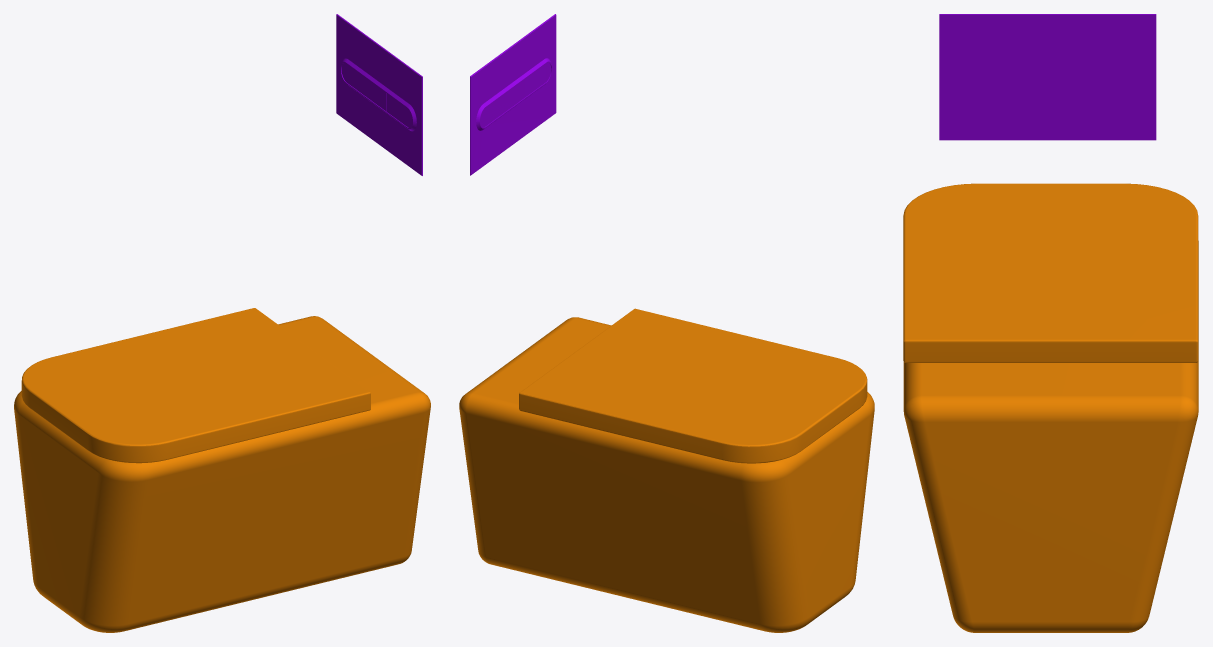
The model's file is WCBath02.fbx.
3 views of the same model, side by side, from view 1: azimuth 30°, elevation 25°; view 2: azimuth 150°, elevation 25°; view 3: azimuth 270°, elevation 25° (orthographic). The views are drawn at different scales.
Parts seen in each view (by area): view 1: ToiletBath03, Toilet_ButtonBath03; view 2: ToiletBath03, Toilet_ButtonBath03; view 3: ToiletBath03, Toilet_ButtonBath03.
Part boxes in pixels (<box>): ToiletBath03: <box>14,308,430,632</box>; Toilet_ButtonBath03: <box>336,14,422,175</box>; ToiletBath03: <box>459,308,874,632</box>; Toilet_ButtonBath03: <box>470,14,556,175</box>; ToiletBath03: <box>903,183,1198,632</box>; Toilet_ButtonBath03: <box>939,14,1156,140</box>.
Size of the model in its own units: 54.02 by 79.49 by 34.04.
